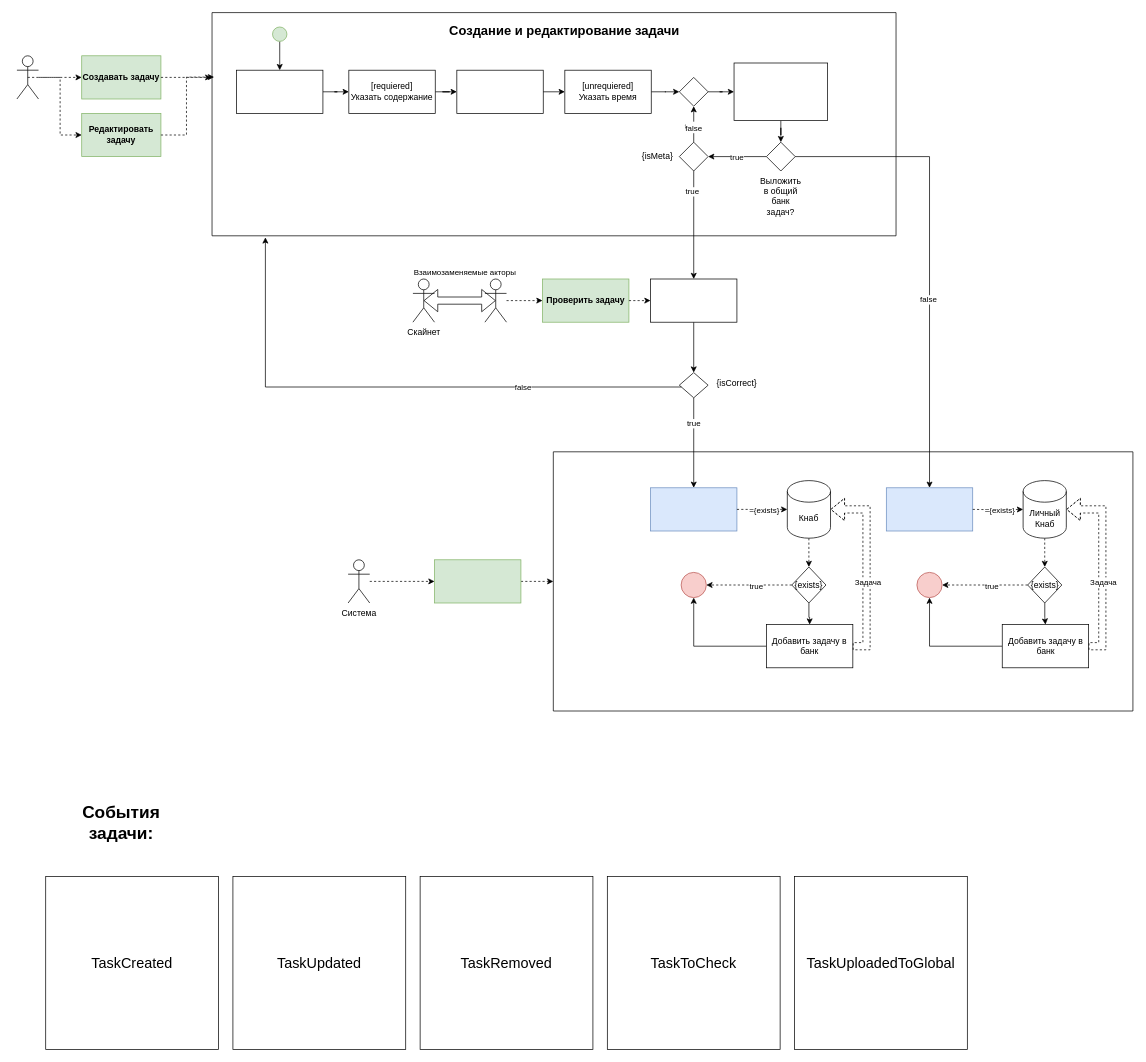
The diagram is 1146 pixels wide and 1062 high, and some of its shapes have lost their labels. Each missing label, with the centre of its shape:
[requiered] Указать название: the point at 279,91
[requiered] Указать ответ: the point at 499,91
{isCorrect} [requiered] Выполнить проверку задачу на коррекцию: the point at 693,300
{isMeta} [unrequiered] Указать метаинформацию (теги, сложность): the point at 780,91
Выполнить проверку на содержание подобной задачи в банке: the point at 693,509
Выполнить проверку на содержание подобной задачи в личном банке: the point at 929,509
Зафиксировать задачу: the point at 477,581
Мадиратор: the point at 495,300
Препод: the point at 27,77
